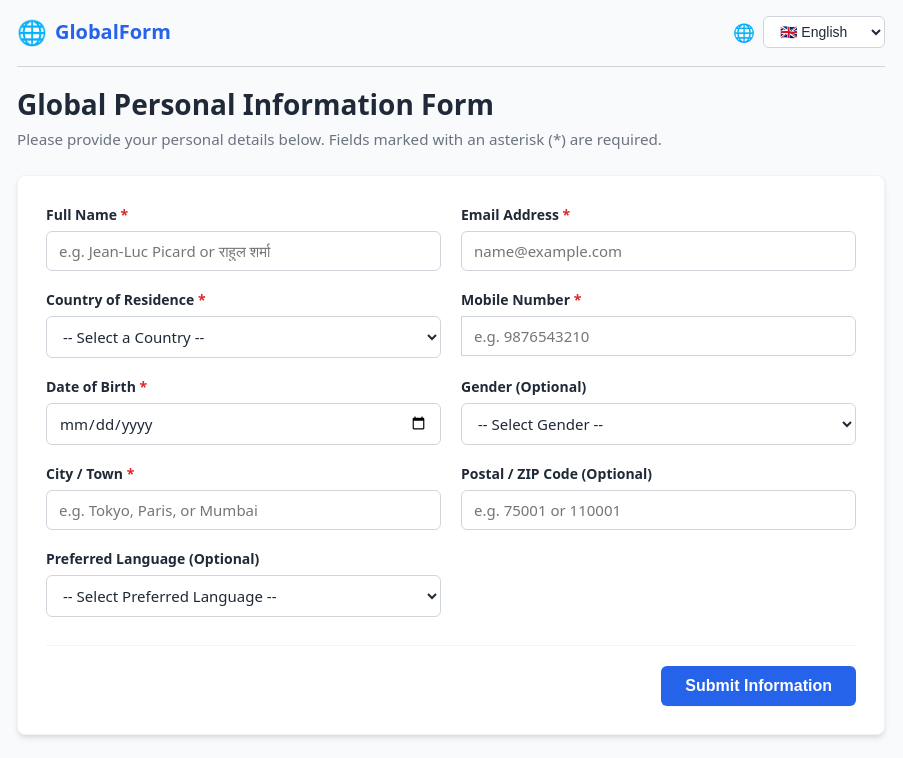
Global Personal Information Form - Frontend Integration Tests › rejects invalid email formats
The image size is (903, 758).
Type "invalid-email@" into the field labelled "Email Address *".
click(658, 251); type("invalid-email@")  # box [461,231,856,271]
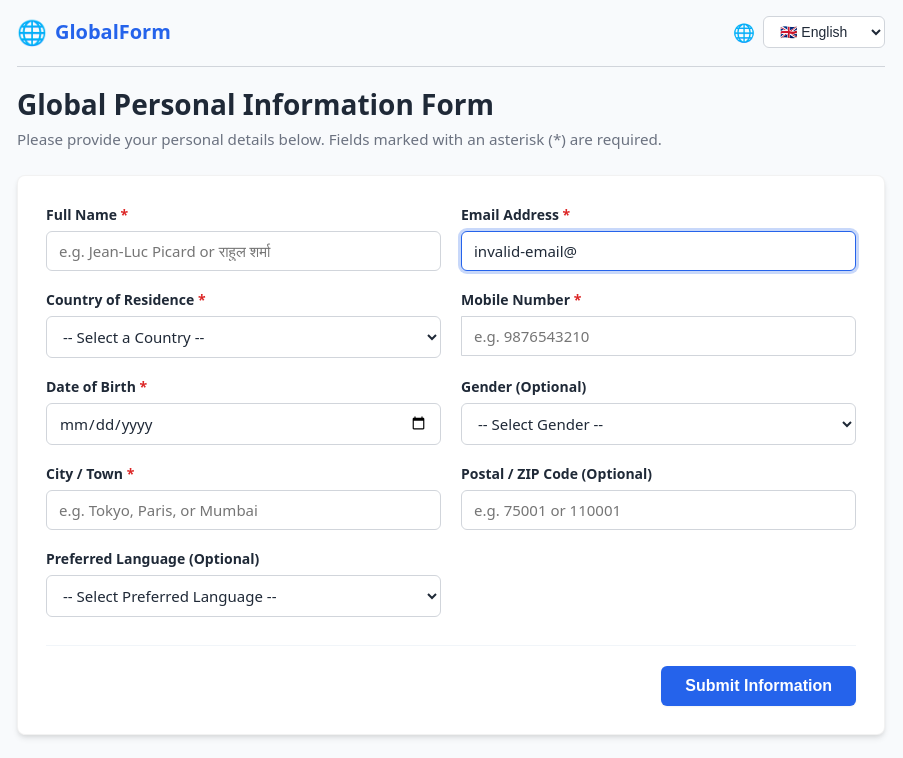
Click the button "Submit Information".
click(759, 686)  # box [661,666,856,706]
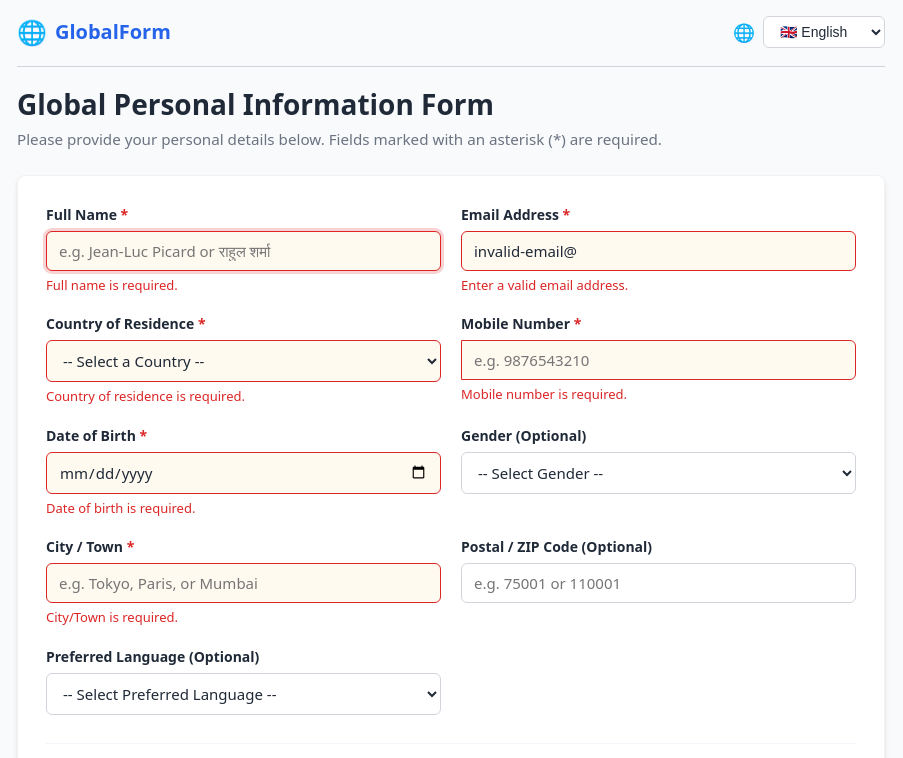
expect the text "Enter a valid email address." is shown: met, box [461,276,628,294]
